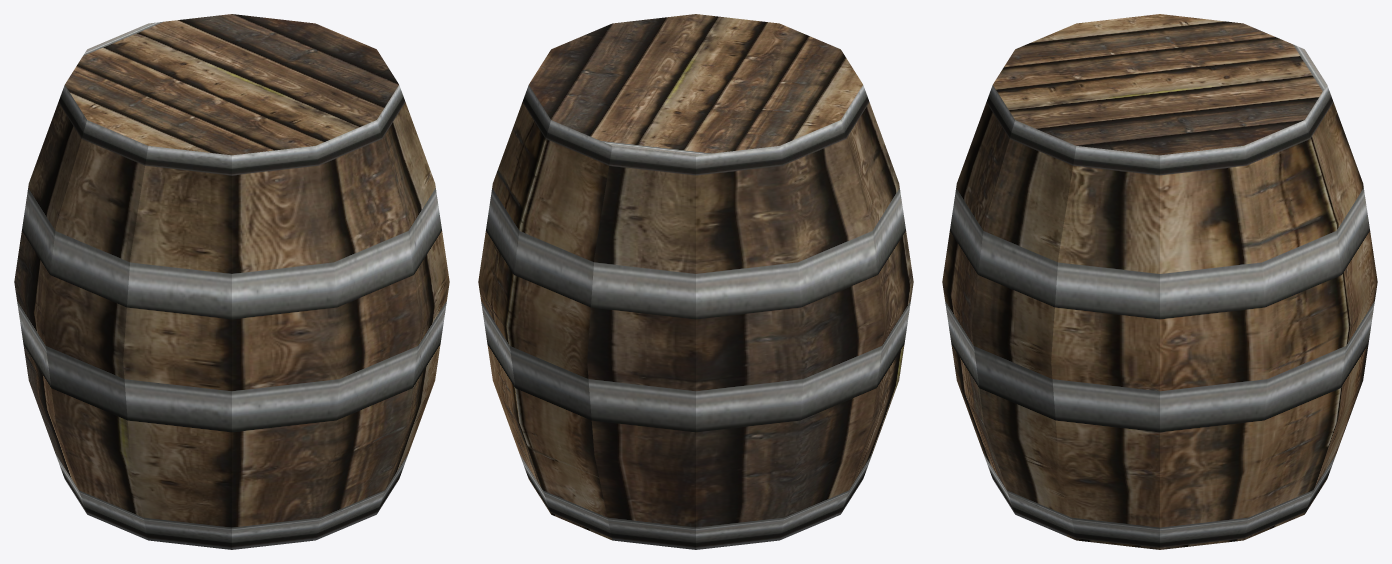
The model's file is barrel_fbx.fbx.
The picture shows the model from 3 angles, left to right: view 1: azimuth 30°, elevation 25°; view 2: azimuth 150°, elevation 25°; view 3: azimuth 270°, elevation 25°; orthographic projection.
Parts seen in each view (by area): view 1: polySurface3; view 2: polySurface3; view 3: polySurface3.
Part boxes in pixels (left/top/right/bottom): polySurface3: left=14, top=14, right=449, bottom=549; polySurface3: left=478, top=14, right=913, bottom=549; polySurface3: left=942, top=14, right=1377, bottom=549.
Size of the model in its own units: 2 by 2 by 2.
Materials: 1 (1 with a texture image).
